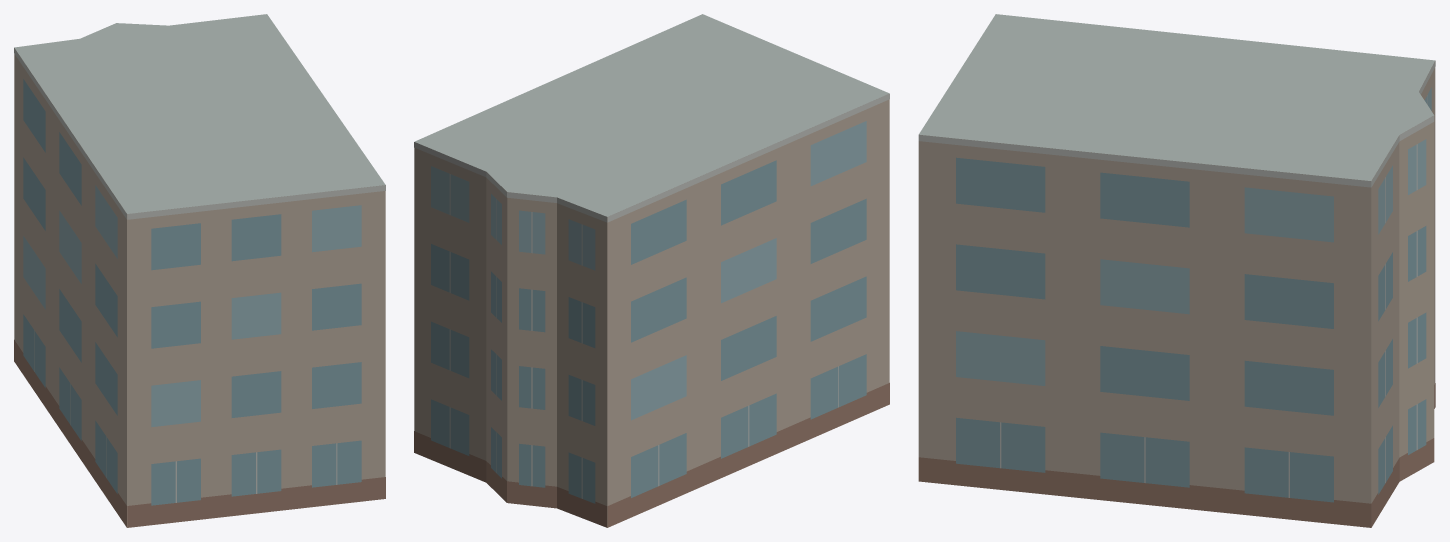
File: survey-upis-32828600.glb
3 views of the same model, side by side, from view 1: azimuth 30°, elevation 25°; view 2: azimuth 150°, elevation 25°; view 3: azimuth 270°, elevation 25° (orthographic). The views are drawn at different scales.
Parts seen in each view (by area): view 1: survey-upis-32828600.tmp; view 2: survey-upis-32828600.tmp; view 3: survey-upis-32828600.tmp.
Boxes of the visible parts, x1,y1,x2,y2 form: survey-upis-32828600.tmp: (14, 14, 385, 527); survey-upis-32828600.tmp: (414, 14, 889, 527); survey-upis-32828600.tmp: (918, 14, 1435, 527).
Size of the model in its own units: 13.66 by 13.2 by 17.84.
